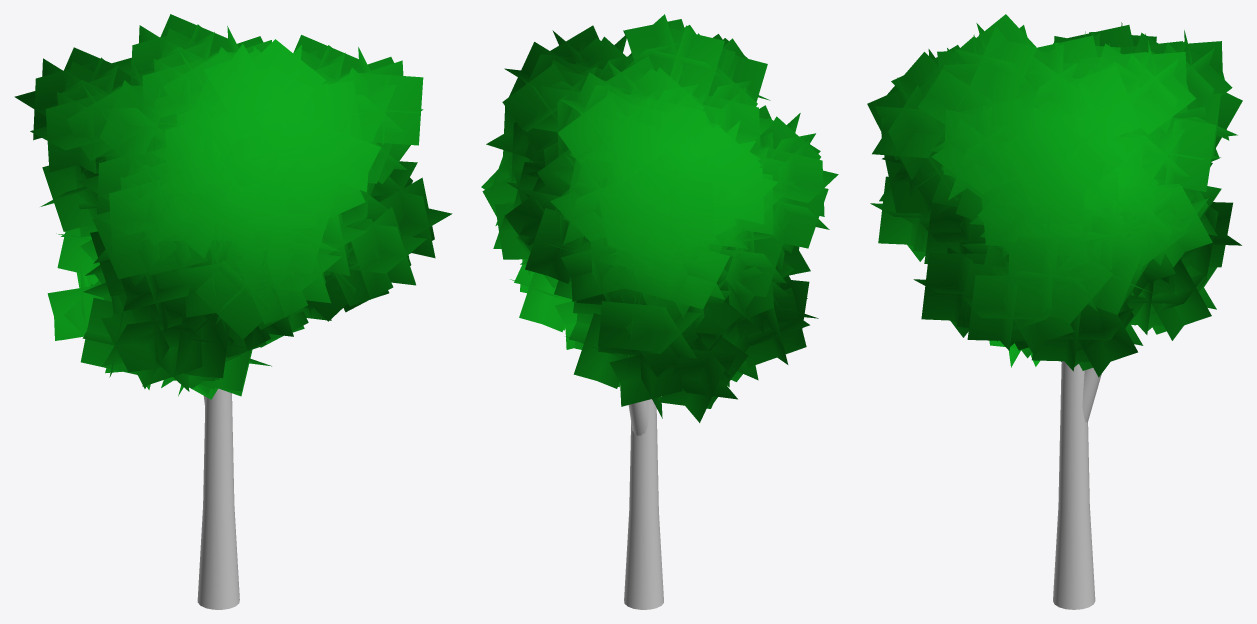
The model's file is Tree.fbx.
3 views of the same model, side by side, from view 1: azimuth 30°, elevation 25°; view 2: azimuth 150°, elevation 25°; view 3: azimuth 270°, elevation 25° (orthographic). The views are drawn at different scales.
Visible parts, largest first — view 1: Plane.008, Cylinder; view 2: Plane.008, Cylinder; view 3: Plane.008, Cylinder.
Part boxes in pixels (x1,y1,x2,y2): Plane.008: (14, 14, 452, 399); Cylinder: (197, 388, 239, 609); Plane.008: (481, 14, 838, 422); Cylinder: (624, 399, 663, 609); Plane.008: (867, 14, 1242, 377); Cylinder: (1053, 361, 1101, 609).
Size of the model in its own units: 375 by 613 by 358.
